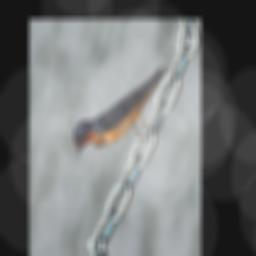Swallow: (69, 52, 170, 170)
